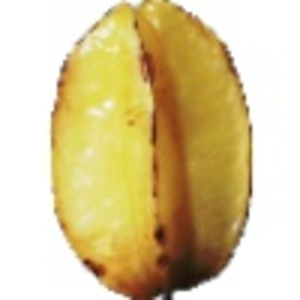carambola: (48, 1, 255, 300)
